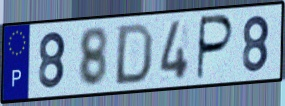4: (158, 17, 191, 82)
8: (77, 25, 110, 90), (37, 29, 67, 91), (241, 13, 270, 75)
D: (112, 21, 156, 87)
P: (195, 13, 236, 82)
